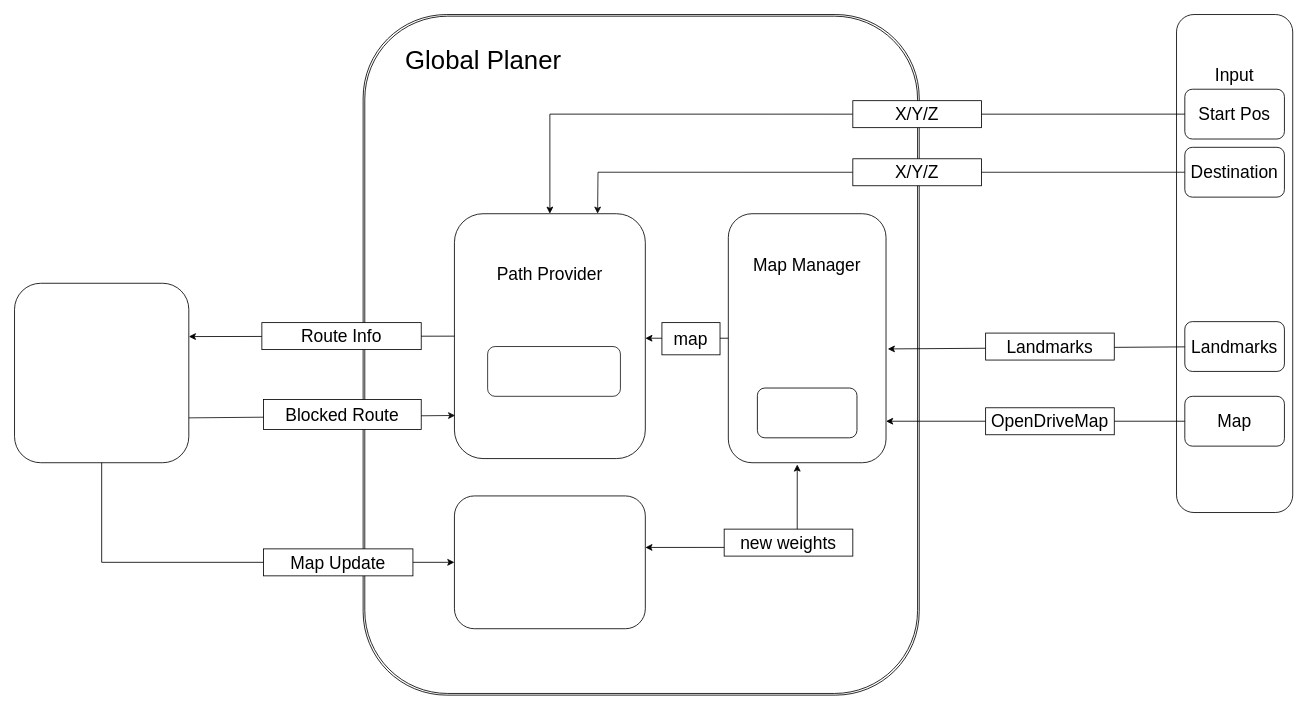
Image size: 1307x710. Some labels were removed from this diagram. Each missing label, with the centre of its shape:
Local Planer: the point at 101,372
Reinforcement lerning (offline): the point at 549,562
Route planer: the point at 553,371
weighed edges: the point at 807,412
